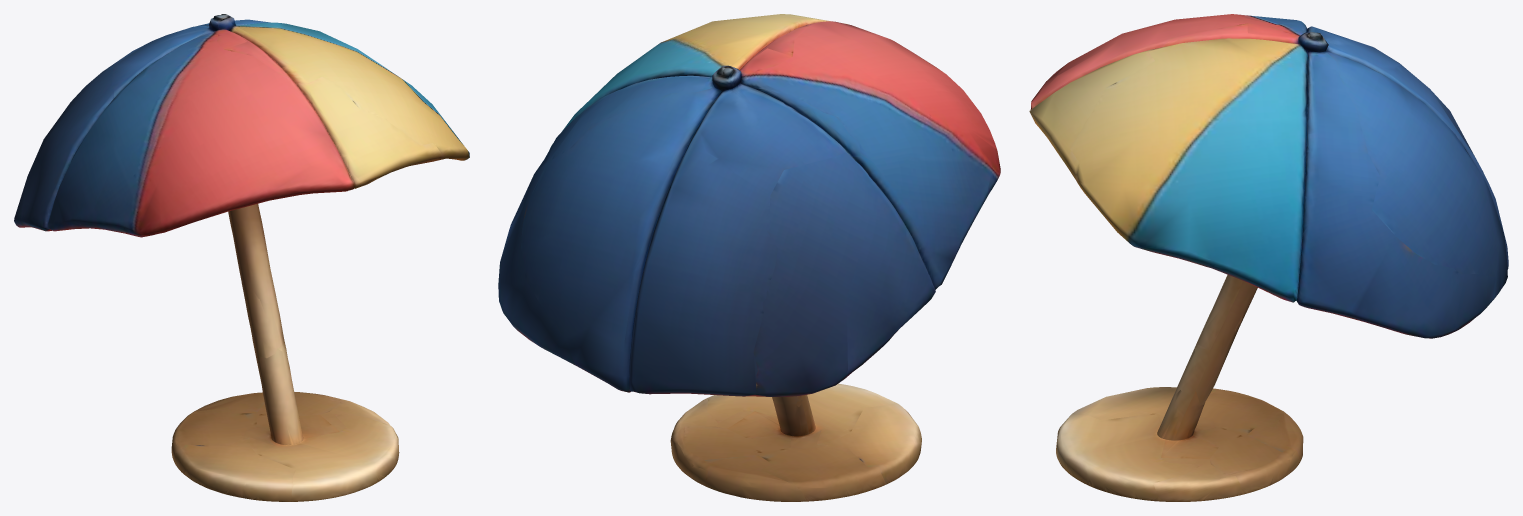
The model's file is parasol_pbr.glb.
3 views of the same model, side by side, from view 1: azimuth 30°, elevation 25°; view 2: azimuth 150°, elevation 25°; view 3: azimuth 270°, elevation 25° (orthographic). The views are drawn at different scales.
Parts seen in each view (by area): view 1: model; view 2: model; view 3: model.
Boxes of the visible parts, <box> form: model: <box>14,14,469,501</box>; model: <box>498,14,1000,501</box>; model: <box>1029,14,1508,501</box>.
Bounding box in the file's own units: 1.69 × 1.72 × 1.78.
1 material, 1 textured.
